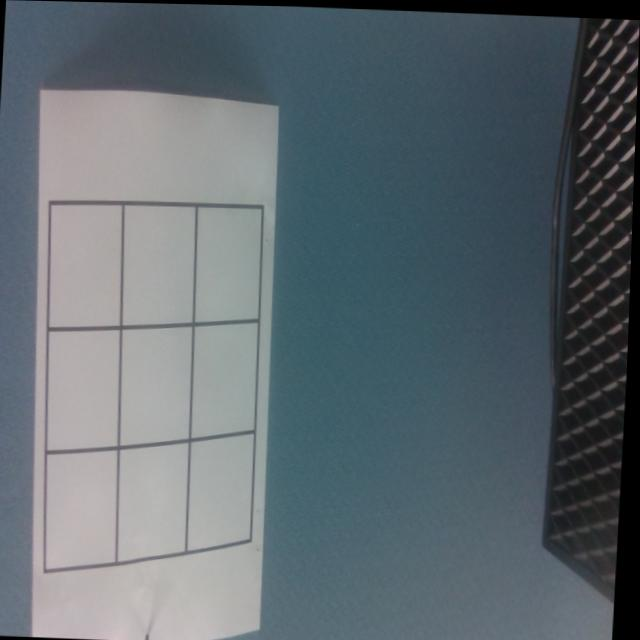null: (45, 199, 130, 332), (44, 323, 126, 453), (119, 200, 201, 329), (43, 442, 125, 571), (119, 318, 197, 448), (191, 315, 261, 442), (194, 202, 265, 327), (122, 439, 192, 560), (191, 427, 258, 552)
table: (45, 198, 266, 579)
